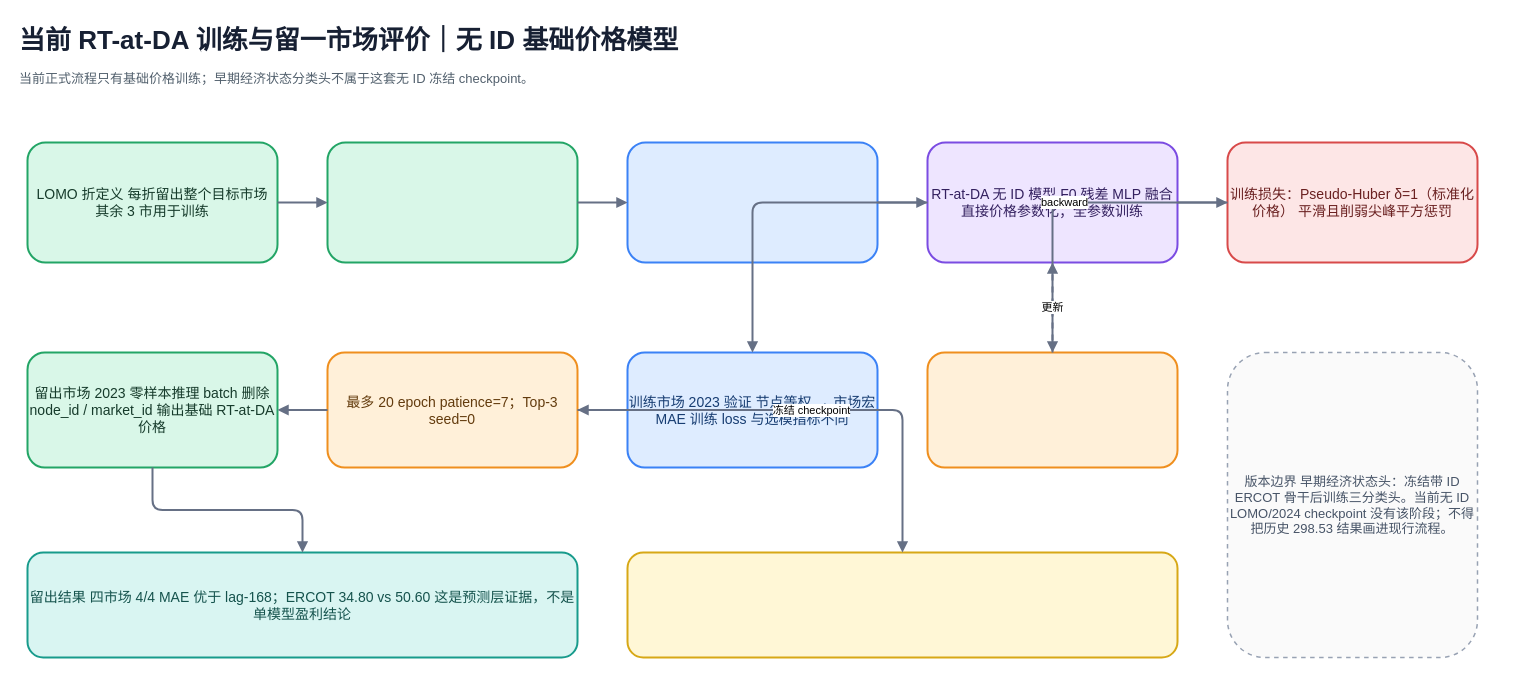
The diagram is 1534 pixels wide and 675 high, and some of its shapes have lost their labels. The shapes that lost their labels are listed below. From the top down, each one's centre as x and y in pixels, then its label:
the point at 452,202: 训练市场日级数据 2020–2022；168h→24h RT market-node balanced D-1 合法起报时刻
the point at 752,202: Context-Robust 只用起报前历史统计量 无实体 Embedding / scaler
the point at 1052,409: AdamW lr=2e-4，AMP 梯度裁剪 + 学习率调度
the point at 902,604: ERCOT 2024 冻结检查 复用相同 seed0 checkpoint，只推理；与另两模型共同结算，不依据 2024 重训或挑选
